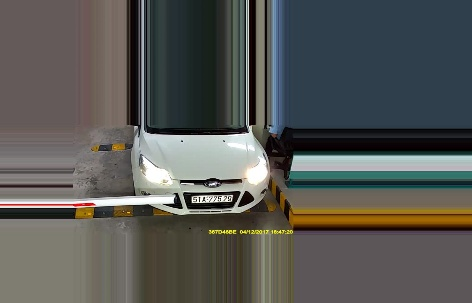plate: (190, 191, 234, 203)
